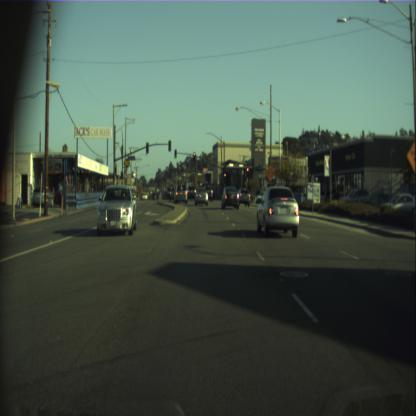GreenLeft: (174, 149, 176, 158)
Red: (247, 166, 249, 176), (193, 152, 195, 160), (224, 172, 226, 180)
